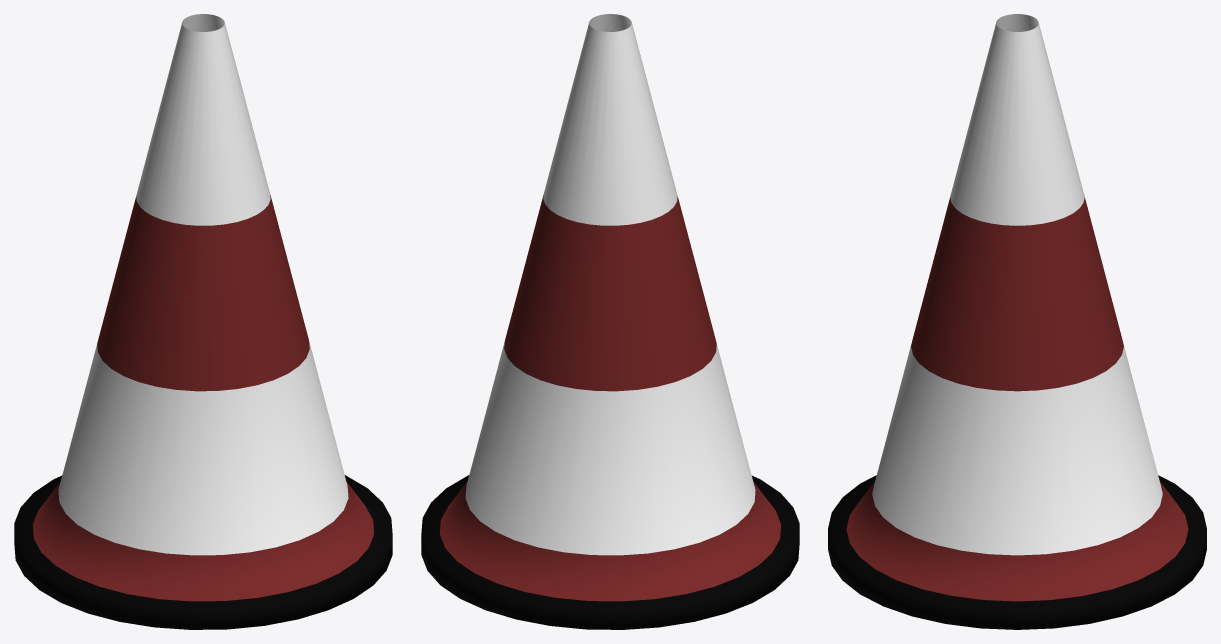
The model's file is traffic_cone.obj.
3 views of the same model, side by side, from view 1: azimuth 30°, elevation 25°; view 2: azimuth 150°, elevation 25°; view 3: azimuth 270°, elevation 25° (orthographic).
Parts seen in each view (by area): view 1: traffic_cone; view 2: traffic_cone; view 3: traffic_cone.
Part boxes in pixels (x1=…): traffic_cone: x1=14, y1=14, x2=392, y2=629; traffic_cone: x1=421, y1=14, x2=799, y2=629; traffic_cone: x1=828, y1=14, x2=1206, y2=629.
Bounding box in the file's own units: 0.8028 × 1.23 × 0.8028.
